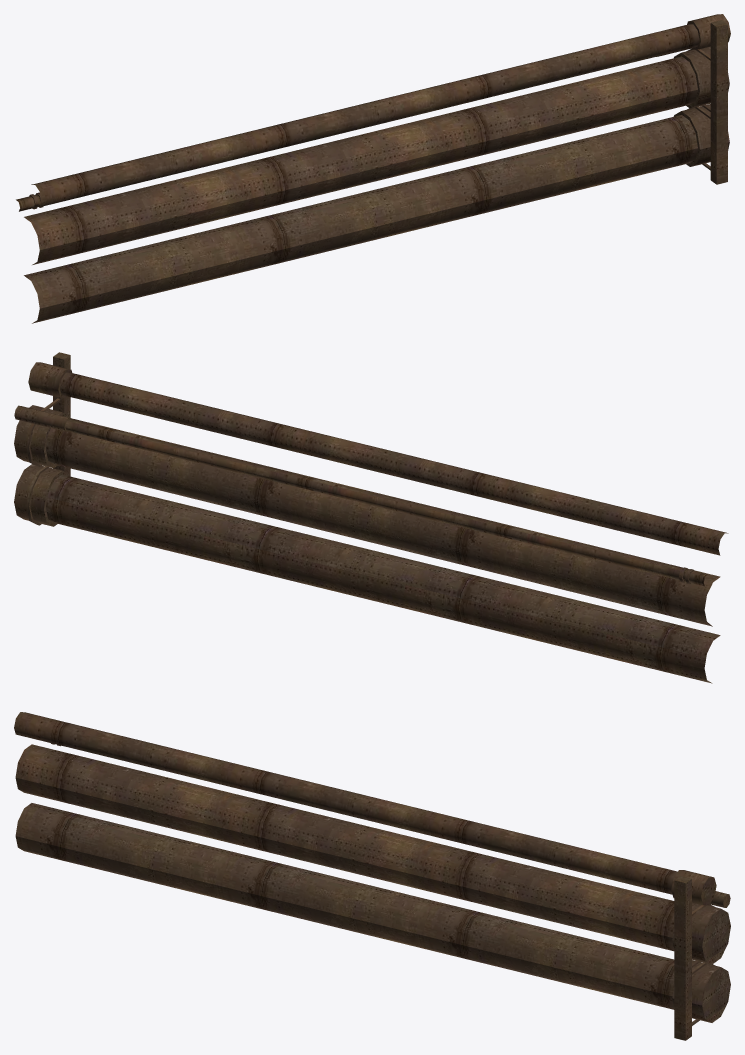
The model's file is pipeset08d_128_001a.glb.
3 views of the same model, one above another, from view 1: azimuth 30°, elevation 25°; view 2: azimuth 150°, elevation 25°; view 3: azimuth 330°, elevation 25° (orthographic).
Parts seen in each view (by area): view 1: 0_pipeset_metal; view 2: 0_pipeset_metal; view 3: 0_pipeset_metal.
Part boxes in pixels (box(x1,y1,x2,y2)): 0_pipeset_metal: box(16, 14, 730, 323); 0_pipeset_metal: box(14, 352, 728, 683); 0_pipeset_metal: box(14, 712, 730, 1040).
Size of the model in its own units: 3.25 by 0.7112 by 0.3048.
1 material, 1 textured.
